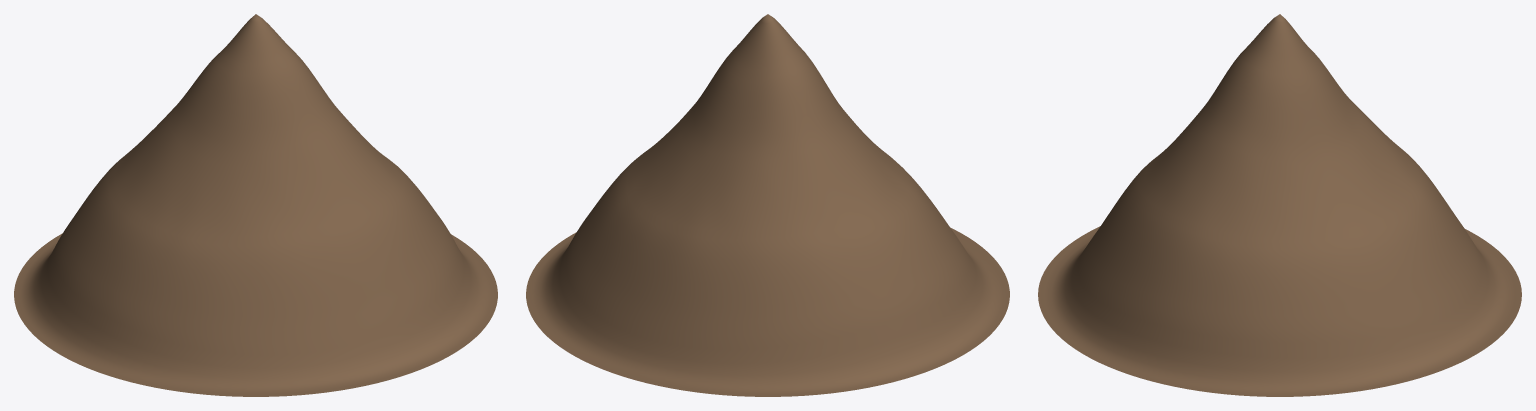
The model's file is hill-v4.6.glb.
3 renders of one model, left to right at view 1: azimuth 30°, elevation 25°; view 2: azimuth 150°, elevation 25°; view 3: azimuth 270°, elevation 25°, orthographic.
Parts seen in each view (by area): view 1: hill_v4_6; view 2: hill_v4_6; view 3: hill_v4_6.
Boxes of the visible parts, x1=… form: hill_v4_6: x1=14, y1=14, x2=497, y2=396; hill_v4_6: x1=526, y1=14, x2=1009, y2=396; hill_v4_6: x1=1038, y1=14, x2=1521, y2=396.
Bounding box in the file's own units: 2 × 1.28 × 2.
